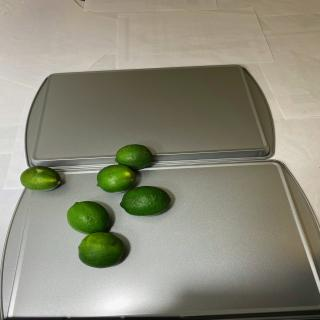Lemon: (78, 232, 125, 268), (120, 186, 171, 216), (67, 200, 110, 234), (96, 164, 136, 193), (20, 166, 61, 192), (115, 144, 153, 170)
